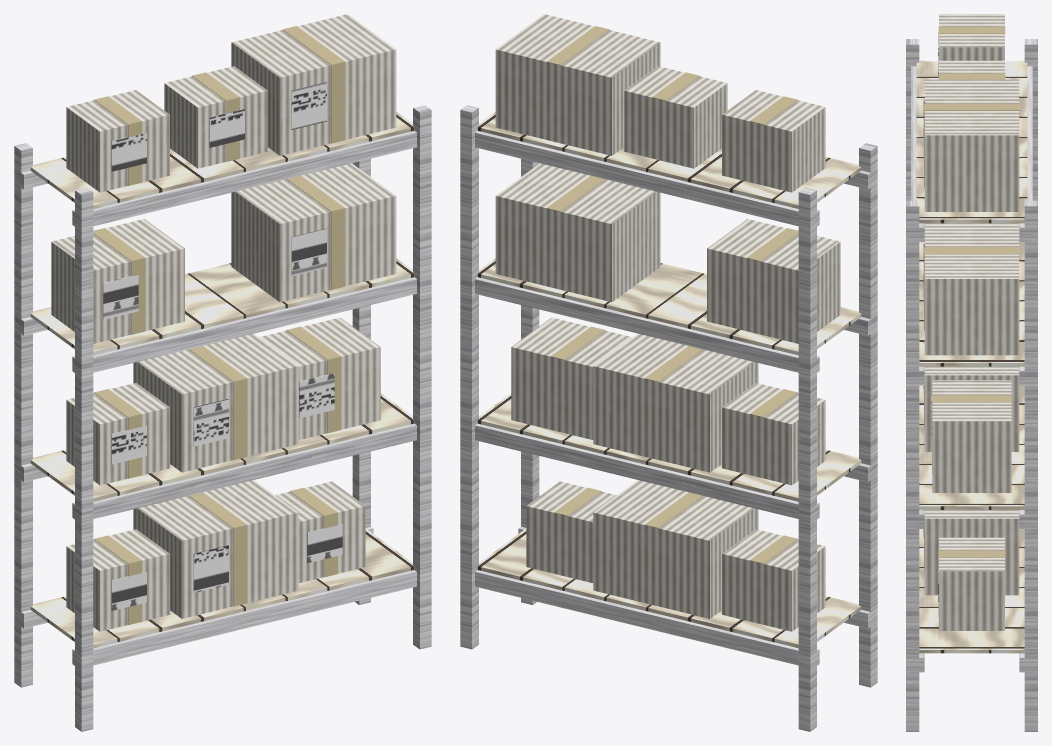
File: rack_mag_fo.obj
3 views of the same model, side by side, from view 1: azimuth 30°, elevation 25°; view 2: azimuth 150°, elevation 25°; view 3: azimuth 270°, elevation 25° (orthographic). The views are drawn at different scales.
Visible parts, largest first — view 1: metallo_000, metallo_001, legno_002, cartone_024, cartone_033, cartone_015, cartone_006, cartone_021, cartone_018, cartone_027, cartone_030, cartone_003 (+24 smaller); view 2: metallo_000, metallo_001, legno_002, cartone_024, cartone_033, cartone_015, cartone_006, cartone_021, cartone_018, cartone_027, cartone_030, cartone_003 (+6 smaller); view 3: metallo_000, legno_002, cartone_024, cartone_033, cartone_018, cartone_009, cartone_006, metallo_001, cartone_015, cartone_027, cartone_030, liscio_034 (+5 smaller).
Part boxes in pixels (box(x1,y1,x2,y2)): metallo_000: box(14, 105, 431, 731); metallo_001: box(17, 130, 416, 665); legno_002: box(30, 112, 414, 648); cartone_024: box(231, 163, 396, 302); cartone_033: box(231, 14, 396, 155); cartone_015: box(133, 333, 298, 472); cartone_006: box(133, 480, 298, 618); cartone_021: box(51, 219, 184, 343); cartone_018: box(259, 317, 380, 439); cartone_027: box(66, 90, 169, 192); cartone_030: box(164, 66, 267, 168); cartone_003: box(66, 529, 169, 631); metallo_000: box(460, 105, 877, 731); metallo_001: box(475, 130, 874, 665); legno_002: box(477, 112, 861, 648); cartone_024: box(495, 163, 660, 302); cartone_033: box(495, 14, 660, 155); cartone_015: box(593, 333, 758, 472); cartone_006: box(593, 480, 758, 618); cartone_021: box(707, 219, 840, 343); cartone_018: box(511, 317, 632, 439); cartone_027: box(722, 90, 825, 192); cartone_030: box(624, 66, 727, 168); cartone_003: box(722, 529, 825, 631); metallo_000: box(906, 39, 1037, 731); legno_002: box(916, 61, 1027, 653); cartone_024: box(924, 223, 1019, 355); cartone_033: box(924, 79, 1019, 211); cartone_018: box(932, 380, 1011, 492); cartone_009: box(939, 537, 1004, 630); cartone_006: box(924, 510, 1019, 595); metallo_001: box(911, 60, 1032, 672); cartone_015: box(924, 366, 1019, 451); cartone_027: box(939, 14, 1004, 60); cartone_030: box(939, 60, 1004, 73); liscio_034: box(924, 103, 1019, 187).
Bounding box in the file's own units: 1.5 × 2.45 × 0.5.
8 materials, 7 textured.
